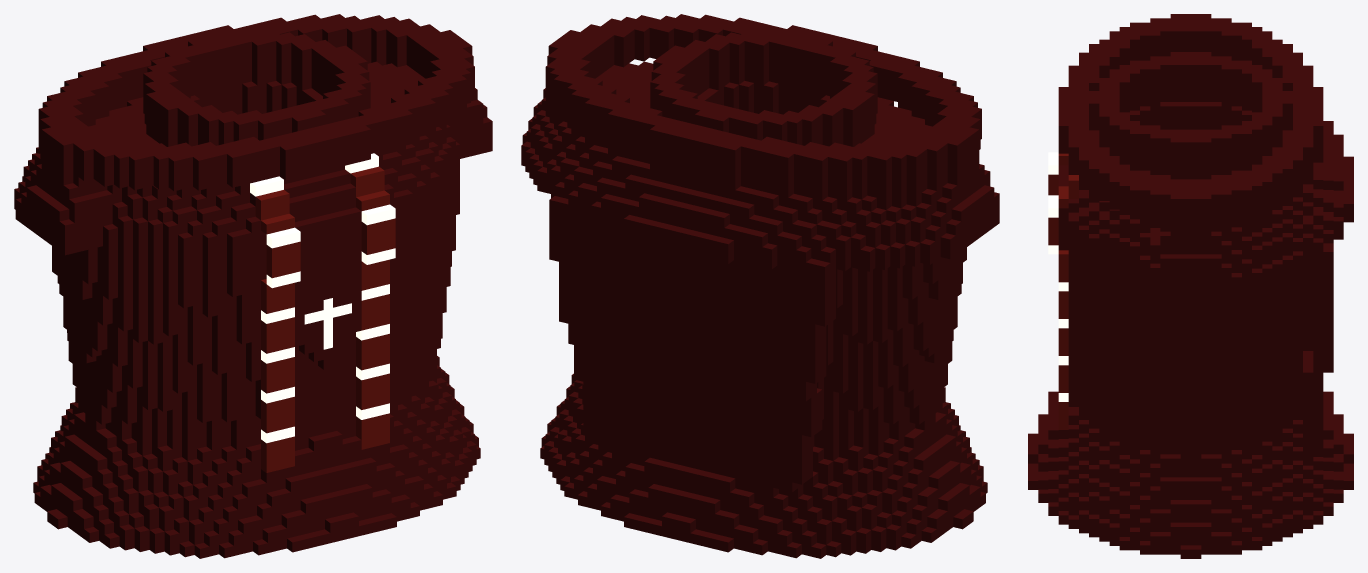
Rendered from cloth_masterwork_chest.glb.
3 views of the same model, side by side, from view 1: azimuth 30°, elevation 25°; view 2: azimuth 150°, elevation 25°; view 3: azimuth 270°, elevation 25° (orthographic). The views are drawn at different scales.
Visible parts, largest first — view 1: cloth_masterwork_chest; view 2: cloth_masterwork_chest; view 3: cloth_masterwork_chest.
Boxes of the visible parts, bbox=[...] form: cloth_masterwork_chest: bbox=[14, 14, 492, 558]; cloth_masterwork_chest: bbox=[521, 14, 999, 558]; cloth_masterwork_chest: bbox=[1028, 14, 1353, 558].
Size of the model in its own units: 0.54 by 0.48 by 0.384.
